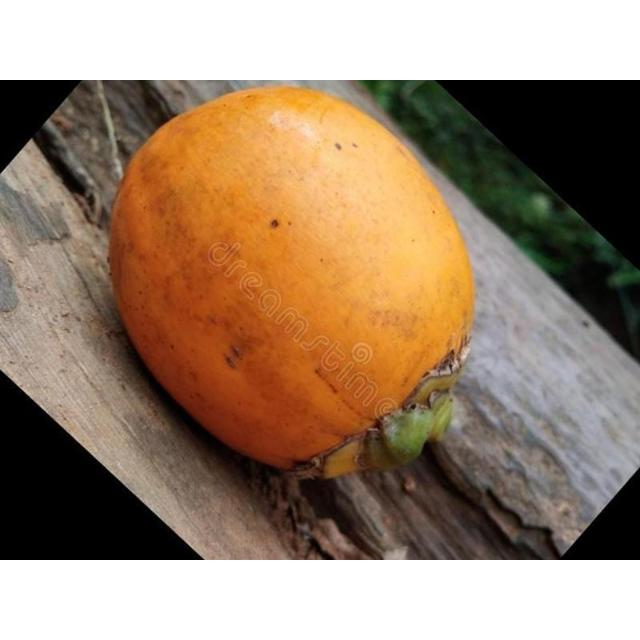good: (109, 88, 469, 480)
